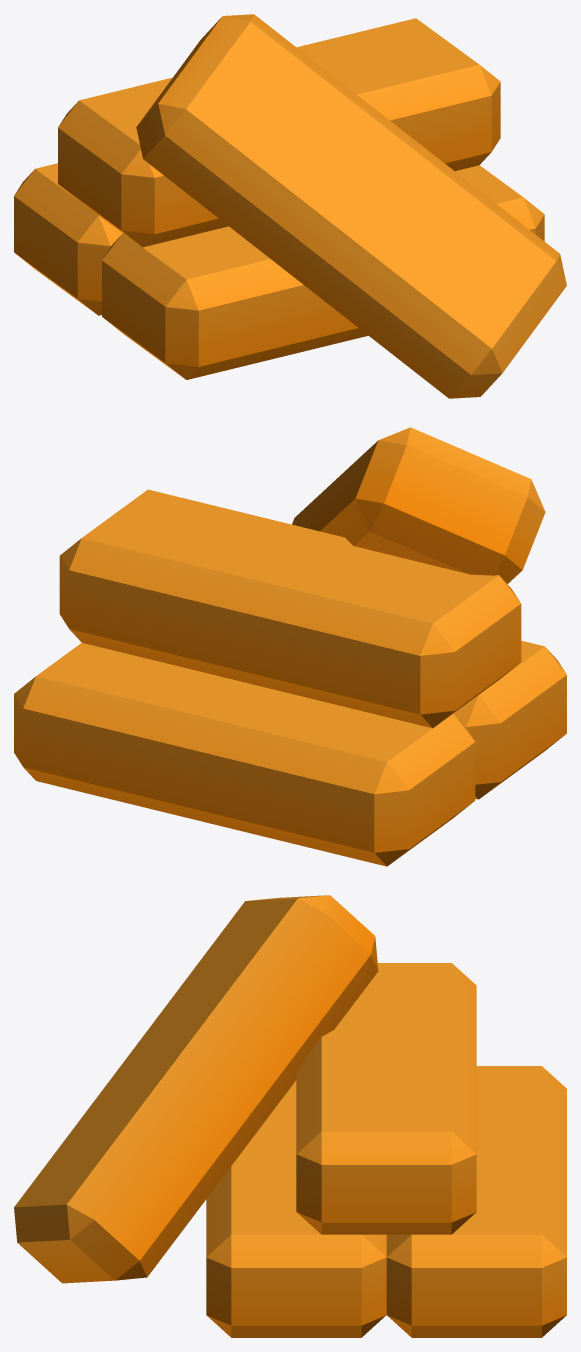
Rendered from Collectable_Gold_Bar_01.fbx.
The picture shows the model from 3 angles, top to bottom: view 1: azimuth 30°, elevation 25°; view 2: azimuth 150°, elevation 25°; view 3: azimuth 270°, elevation 25°; orthographic projection. The views are drawn at different scales.
Parts seen in each view (by area): view 1: Collectable_Gold_Bar_01; view 2: Collectable_Gold_Bar_01; view 3: Collectable_Gold_Bar_01.
Part boxes in pixels (x1,y1,x2,y2): Collectable_Gold_Bar_01: [14, 14, 566, 398]; Collectable_Gold_Bar_01: [14, 427, 566, 866]; Collectable_Gold_Bar_01: [14, 895, 566, 1337].
Bounding box in the file's own units: 80.82 × 65.58 × 99.5.
